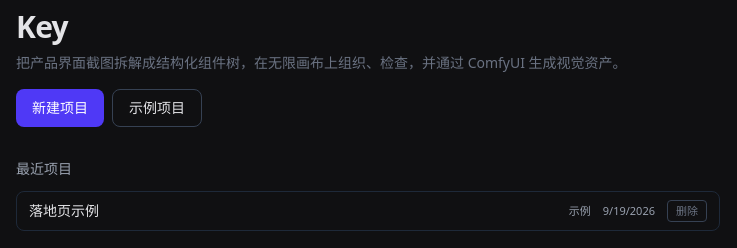
Test: HomeView › 删除项目后从列表移除
Step 1. Click the button "删除" → point(687, 211), box [667,200,707,222]
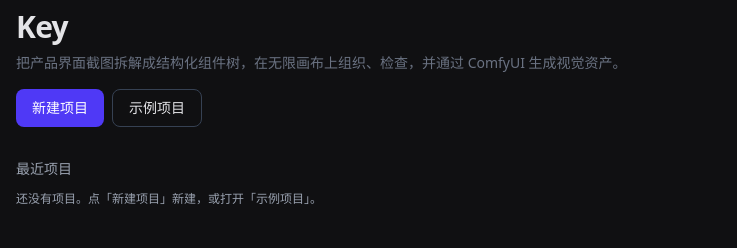
Result: the text "还没有项目。点「新建项目」新建，或打开「示例项目」。" is shown at [16,190,322,207]
